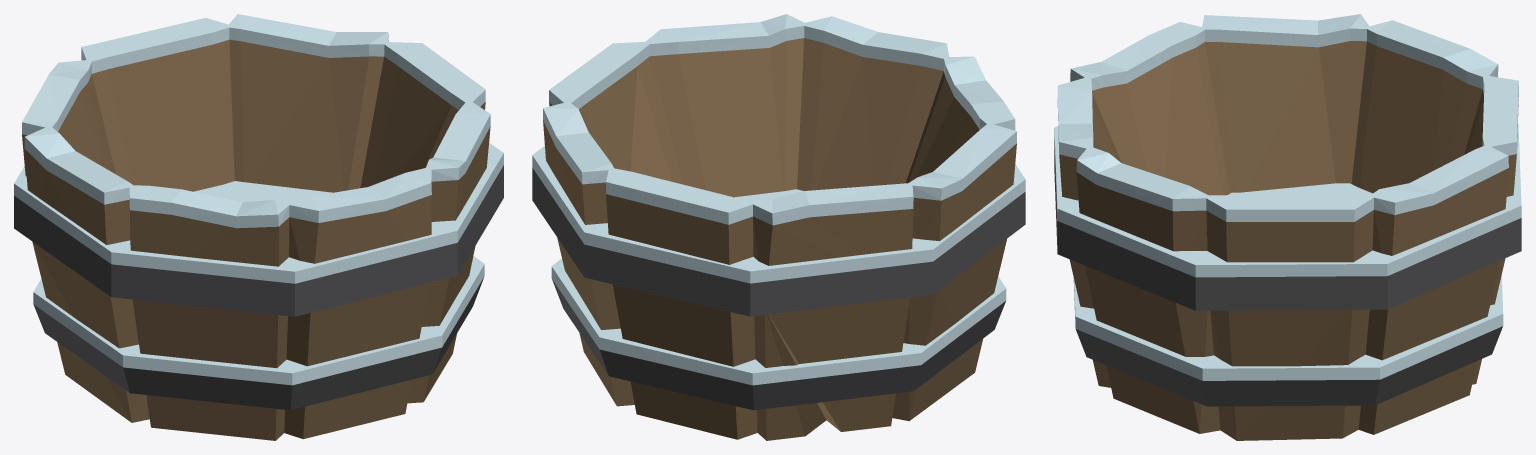
File: SM_Prop_Barrel_Half_01_Snow.fbx
3 views of the same model, side by side, from view 1: azimuth 30°, elevation 25°; view 2: azimuth 150°, elevation 25°; view 3: azimuth 270°, elevation 25° (orthographic).
Visible parts, largest first — view 1: SM_Prop_Barrel_Half_01_Snow; view 2: SM_Prop_Barrel_Half_01_Snow; view 3: SM_Prop_Barrel_Half_01_Snow.
Part boxes in pixels (x1=…): SM_Prop_Barrel_Half_01_Snow: x1=14, y1=14, x2=503, y2=440; SM_Prop_Barrel_Half_01_Snow: x1=532, y1=14, x2=1025, y2=440; SM_Prop_Barrel_Half_01_Snow: x1=1054, y1=14, x2=1521, y2=440.
Size of the model in its own units: 84.25 by 50.02 by 84.25.
